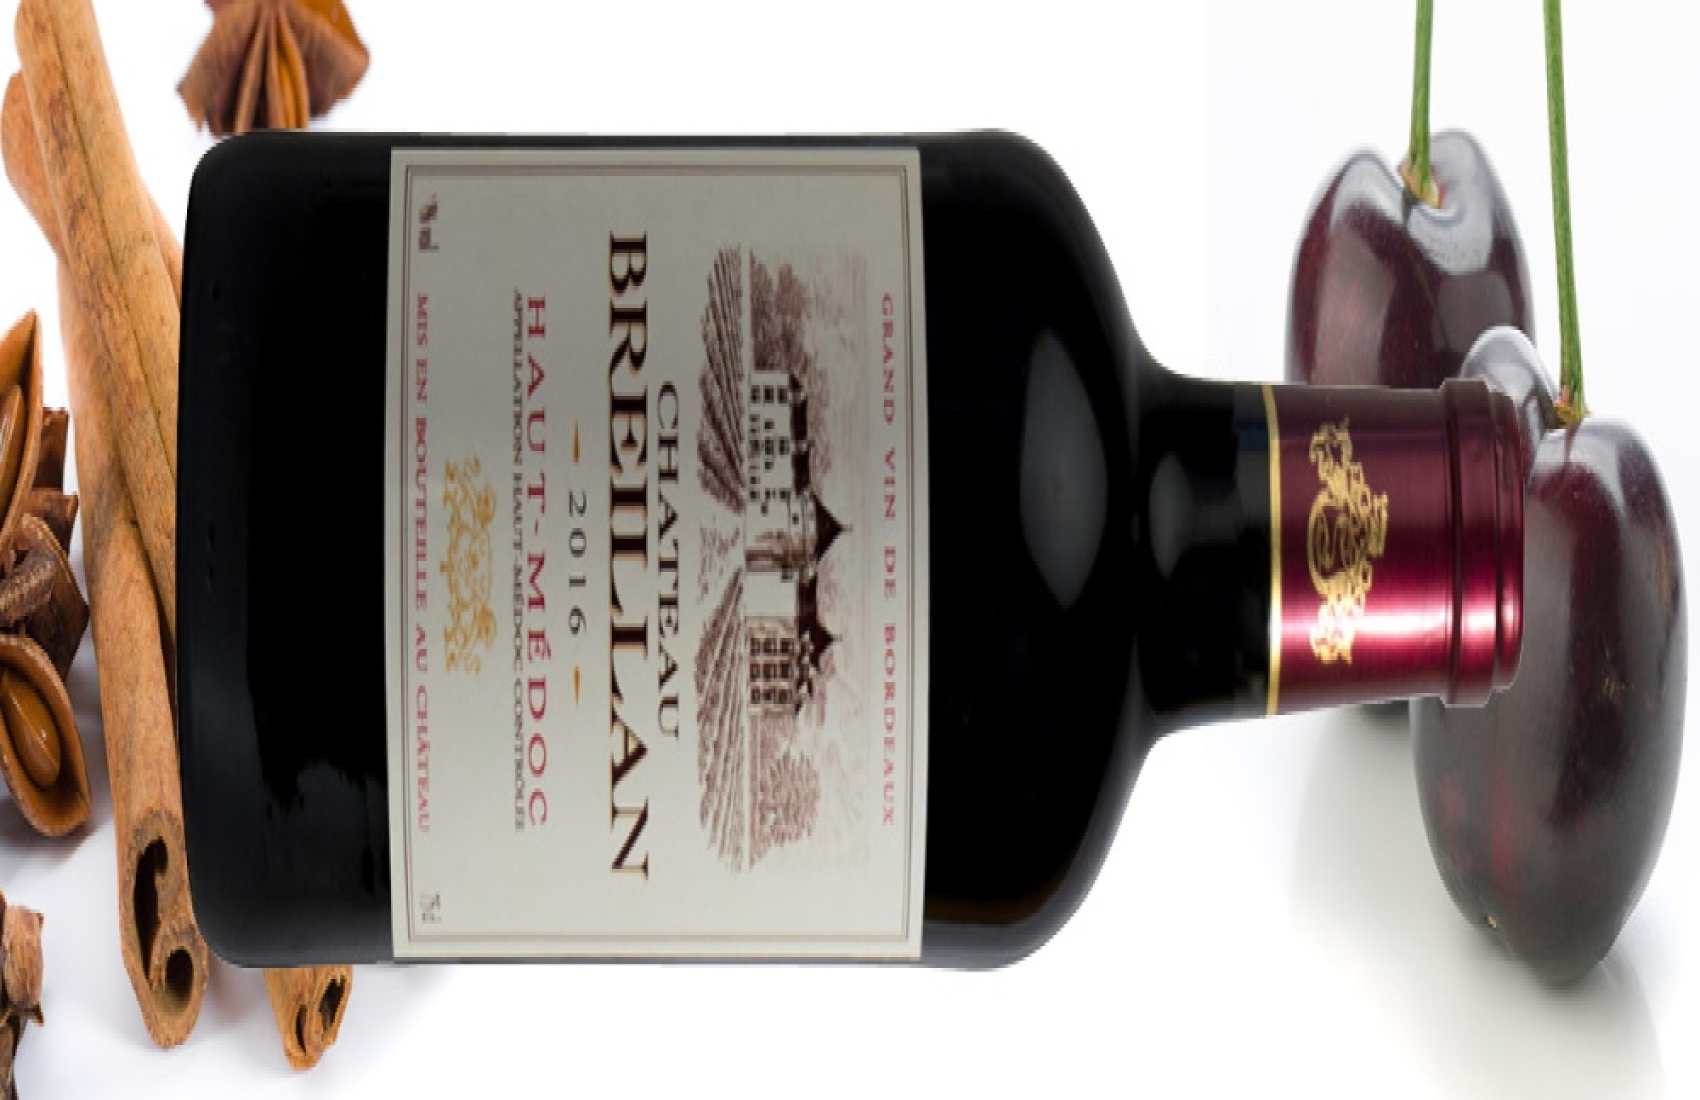wine: (152, 133, 1530, 975)
